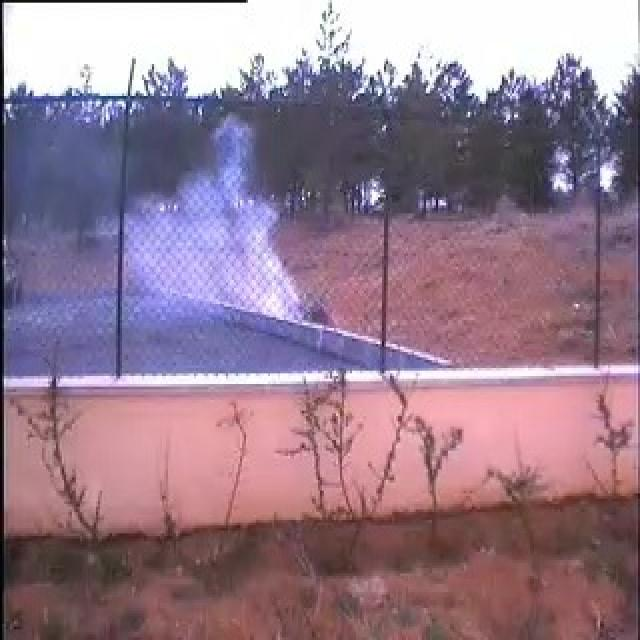smoke: (126, 121, 306, 324)
